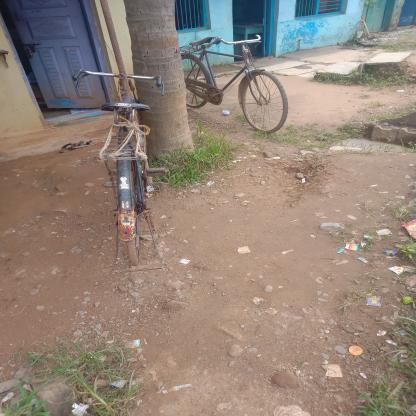bike: (57, 63, 177, 277), (167, 27, 299, 136)
